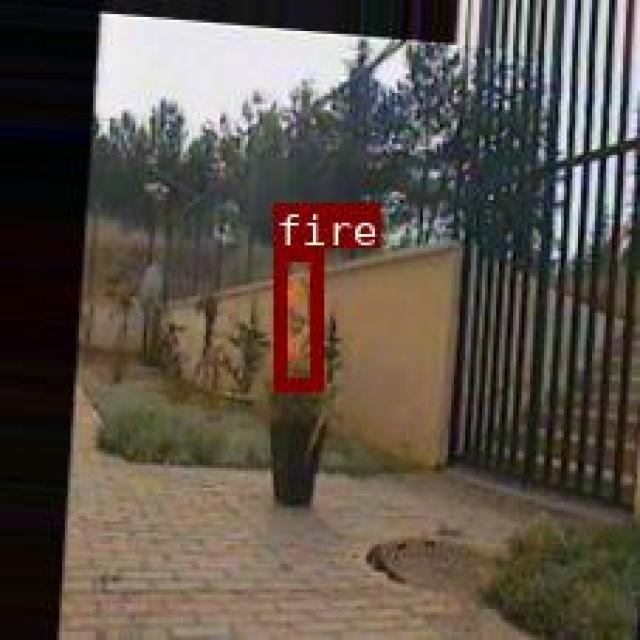fire: (272, 246, 321, 388)
